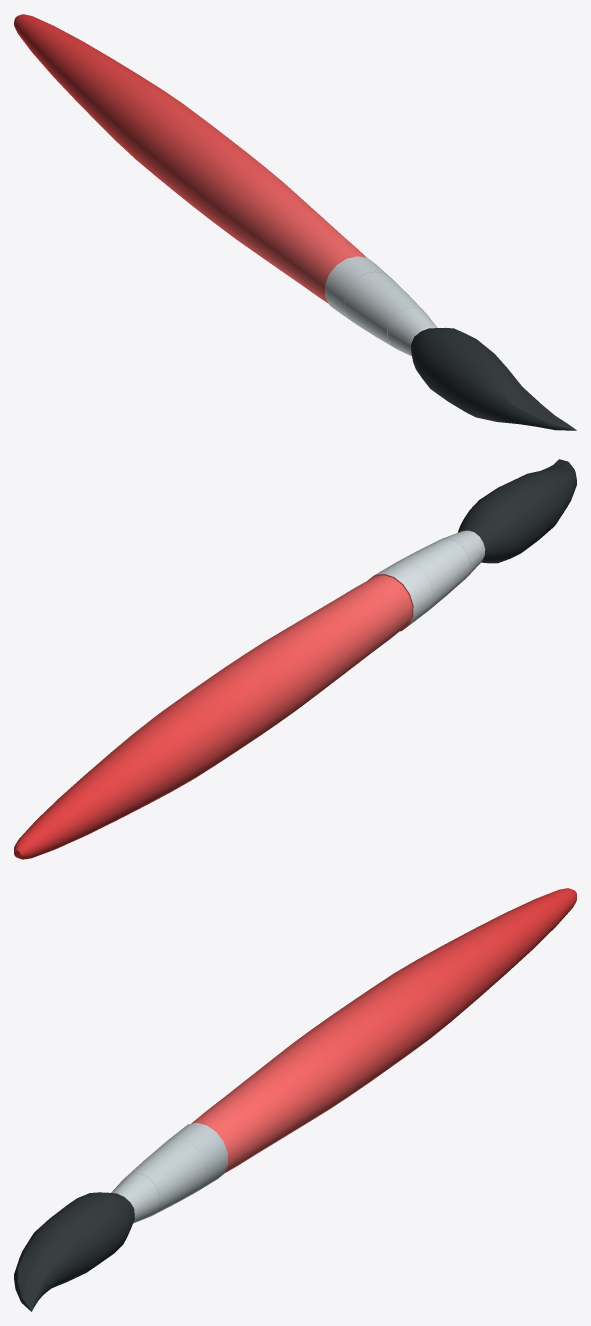
File: Paintbrush.fbx
3 views of the same model, one above another, from view 1: azimuth 30°, elevation 25°; view 2: azimuth 150°, elevation 25°; view 3: azimuth 330°, elevation 25° (orthographic).
Visible parts, largest first — view 1: Paint_Brush; view 2: Paint_Brush; view 3: Paint_Brush.
Part boxes in pixels (x1,y1,x2,y2): Paint_Brush: [14, 14, 576, 430]; Paint_Brush: [14, 459, 576, 859]; Paint_Brush: [14, 888, 576, 1311].
Size of the model in its own units: 1.79 by 1.56 by 22.52.
1 material, 1 textured.
